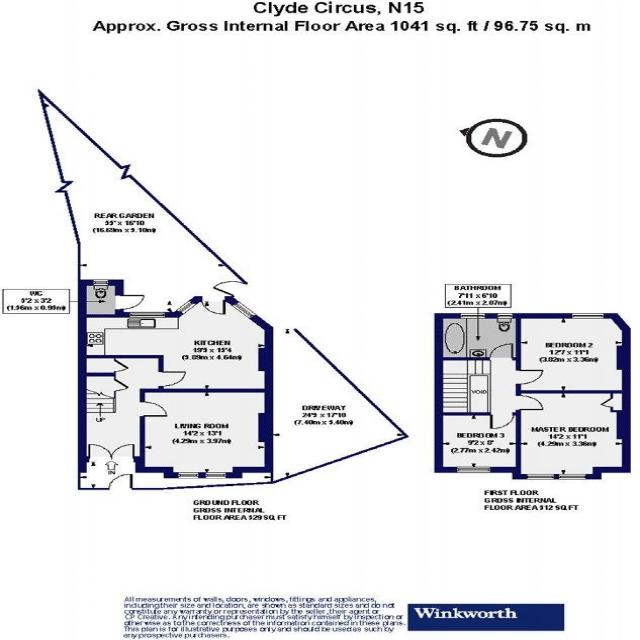DOOR: (200, 296, 227, 315), (115, 294, 146, 310), (488, 412, 515, 430), (515, 369, 545, 385), (158, 371, 188, 387), (488, 342, 514, 360), (139, 401, 168, 417), (516, 395, 544, 411)
ROOM: (77, 296, 274, 393), (139, 388, 274, 479), (512, 390, 631, 480), (515, 313, 631, 394), (434, 412, 521, 473)
WINDOW: (231, 301, 258, 319), (174, 300, 198, 316), (456, 466, 491, 473), (571, 312, 605, 319), (128, 312, 166, 318), (526, 473, 555, 480), (558, 474, 587, 480), (459, 313, 486, 319), (177, 472, 199, 479), (205, 472, 227, 479), (496, 313, 513, 319)
